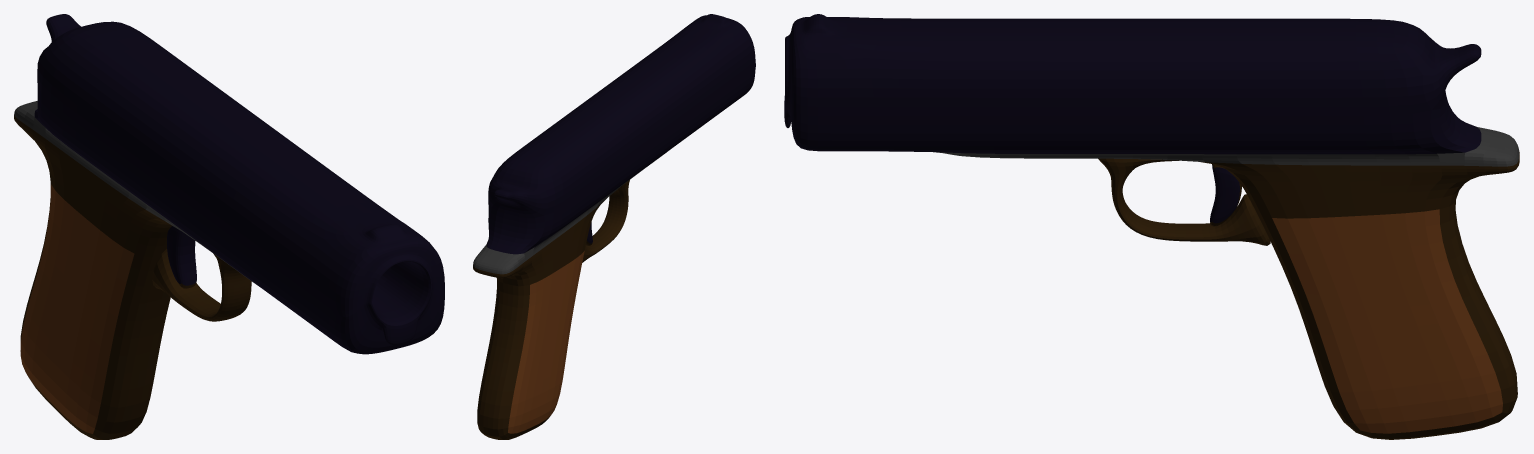
The model's file is кольт2.fbx.
3 views of the same model, side by side, from view 1: azimuth 30°, elevation 25°; view 2: azimuth 150°, elevation 25°; view 3: azimuth 270°, elevation 25° (orthographic). The views are drawn at different scales.
Parts seen in each view (by area): view 1: Cube; view 2: Cube; view 3: Cube.
Boxes of the visible parts, x1=… form: Cube: x1=14, y1=14, x2=444, y2=439; Cube: x1=473, y1=14, x2=755, y2=439; Cube: x1=784, y1=14, x2=1519, y2=439.
Bounding box in the file's own units: 73.07 × 282 × 451.
